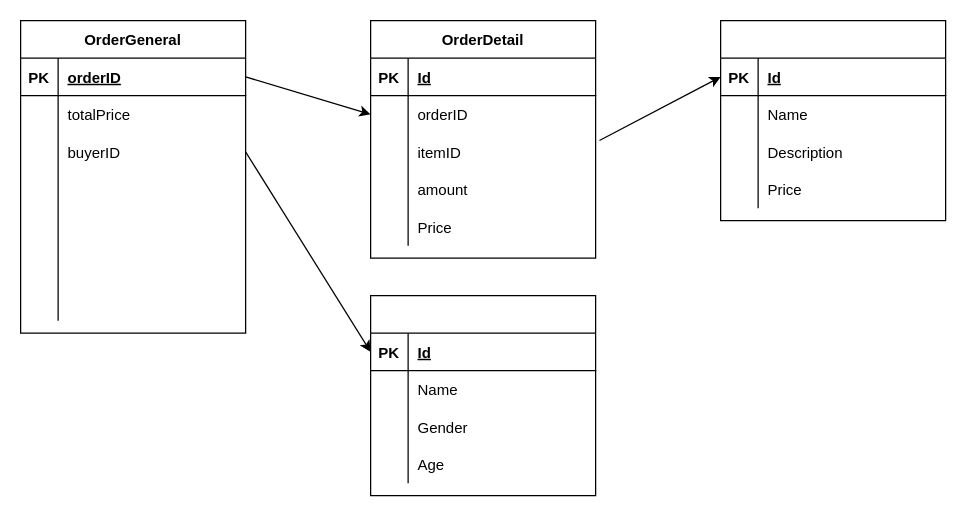
Image size: 966x516. Some labels were removed from this diagram. The box of each missing label's shape, as (x1, y1, x2, y2) in pixels:
Merchandise: (719, 19, 946, 221)
User: (369, 294, 596, 496)
